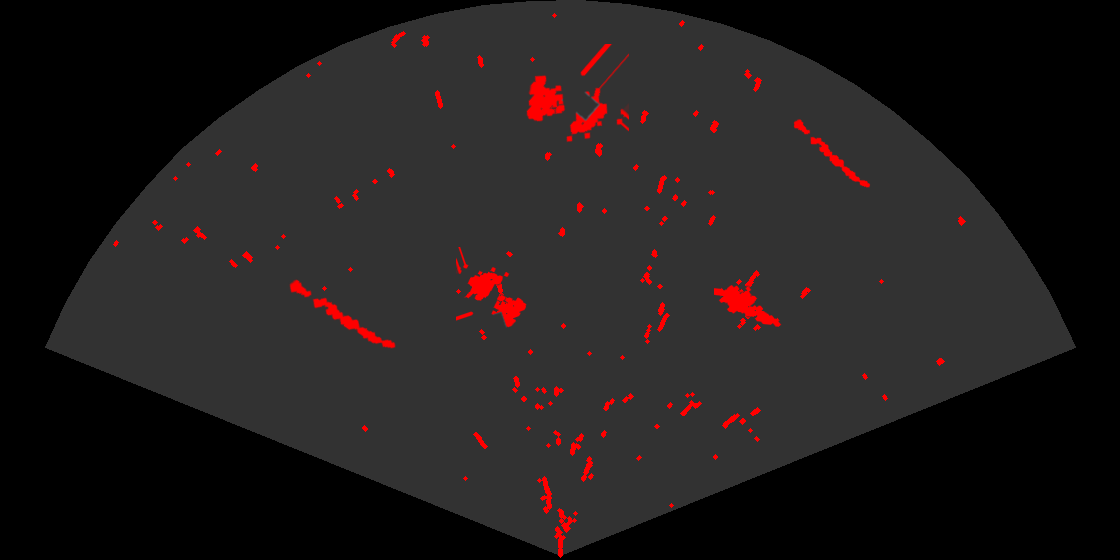cage: (525, 44, 629, 144), (456, 247, 528, 329)
chain: (288, 278, 397, 350), (792, 118, 872, 189)
frogman: (714, 284, 783, 328)
